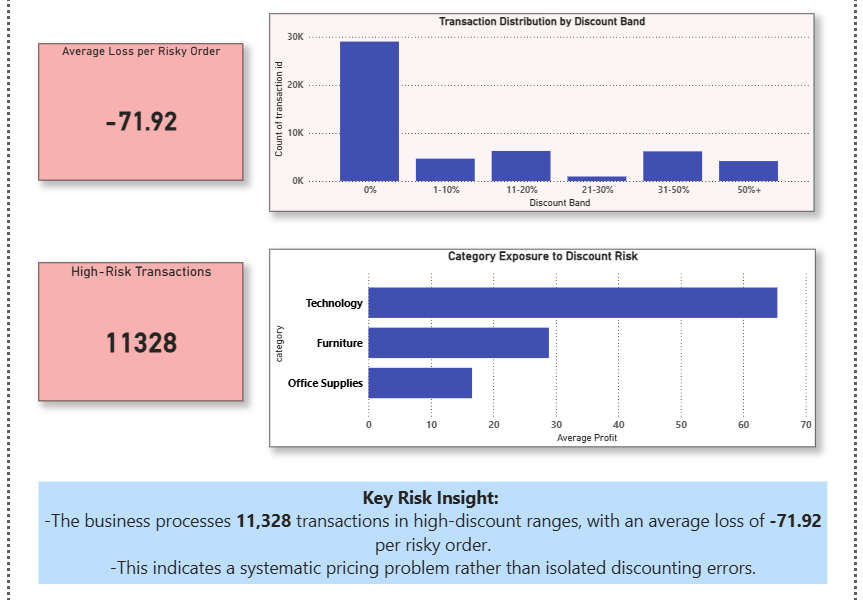

This screenshot's page, from the dashboard's own definition file:
{"tool":"powerbi","page":{"name":"Page 3","canvas":[1280,1000],"ordinal":2},"visuals":[{"type":"card","title":"High-Risk Transactions","fields":{"Values":["1transaction.Risky Transactions"]},"box":[42.5,452.5,310,210],"z":0},{"type":"card","title":"Average Loss per Risky Order","fields":{"Values":["1transaction.Avg Risky Loss"]},"box":[42.5,120,310,207.5],"z":1},{"type":"clusteredColumnChart","title":"Transaction Distribution by Discount Band","fields":{"Category":["1transaction.Discount Band"],"Y":["CountNonNull(1transaction.transaction id)"]},"box":[392.5,75,825,300],"z":2},{"type":"clusteredBarChart","title":"Category Exposure to Discount Risk","fields":{"Y":["1transaction.Average Profit"],"Category":["2product.category"]},"box":[392.5,432.5,827.5,300],"z":3},{"type":"textbox","box":[42.5,785,1195,155],"z":4}]}

Visuals, with their boxes on the page's 1280x1000 design canvas (x1, y1, x2, y2). These are canvas units, not pixel positions in the 863x600 screenshot, which may show the page scaled, cropped or inside an application window:
"High-Risk Transactions" card: 42, 452, 352, 662
"Average Loss per Risky Order" card: 42, 120, 352, 328
"Transaction Distribution by Discount Band" clusteredColumnChart: 392, 75, 1218, 375
"Category Exposure to Discount Risk" clusteredBarChart: 392, 432, 1220, 732
textbox: 42, 785, 1238, 940
